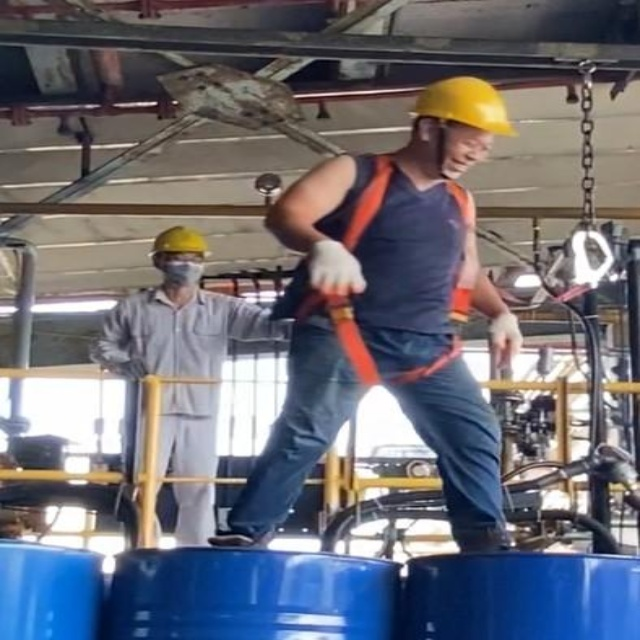Arnes_seguridad: (320, 153, 480, 390)
